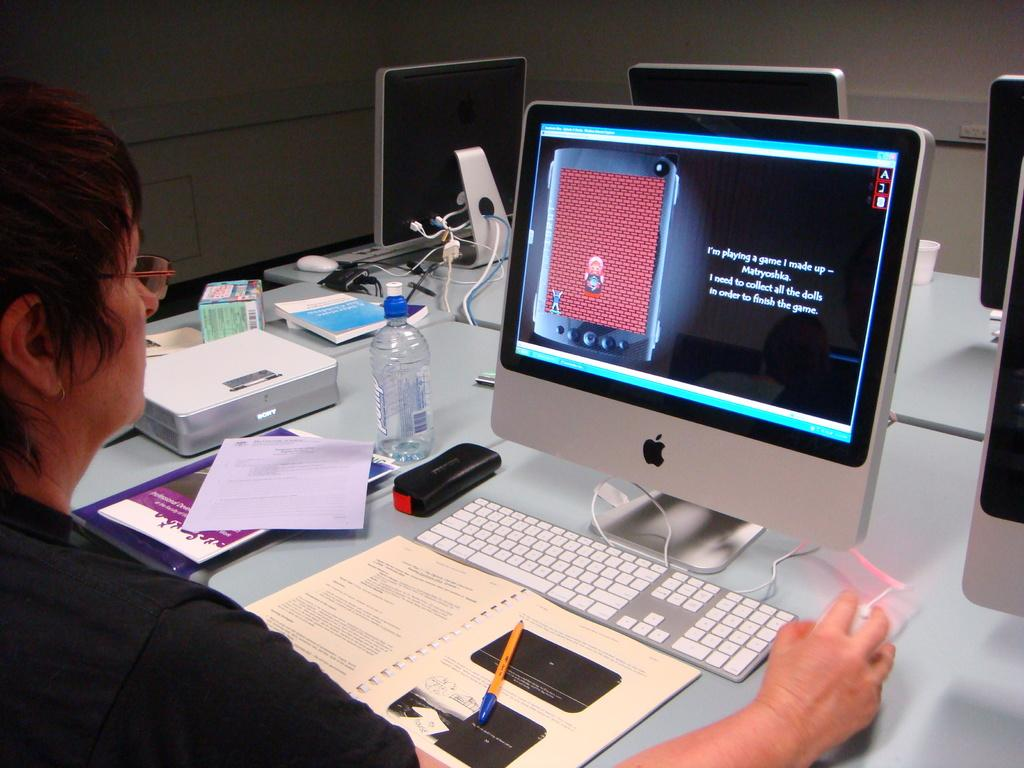Computer-keyboard: (411, 479, 810, 681)
Computer-monitor: (490, 97, 929, 538), (375, 58, 536, 281), (958, 177, 1023, 620), (625, 67, 850, 138), (977, 77, 1023, 322)
